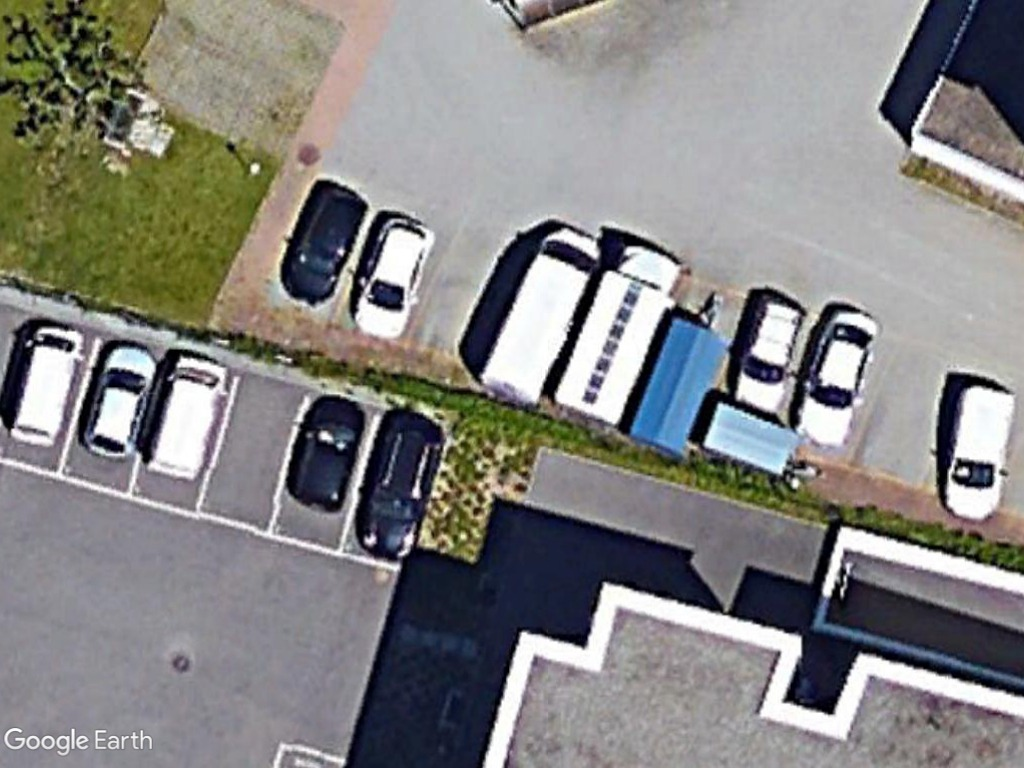car: (353, 412, 449, 564), (787, 305, 886, 451), (283, 182, 377, 304), (350, 215, 436, 344), (81, 337, 161, 463), (279, 393, 365, 508), (730, 291, 807, 415)
truck: (551, 237, 687, 429)
van: (476, 226, 606, 411), (944, 376, 1020, 524), (5, 316, 86, 446), (143, 355, 226, 478)
